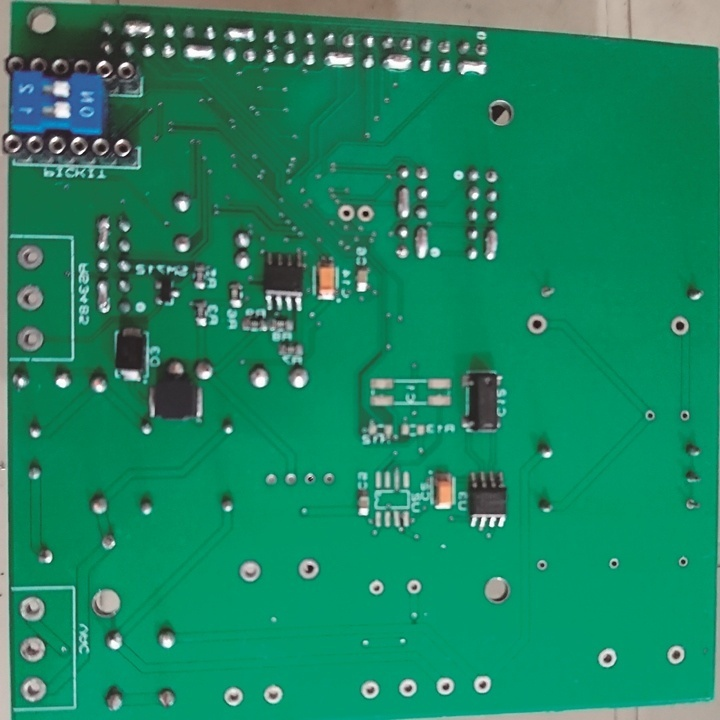F: (18, 674, 51, 707), (18, 634, 49, 666), (16, 323, 47, 354), (16, 244, 47, 275), (15, 284, 47, 314), (18, 597, 48, 626), (295, 557, 321, 584), (236, 558, 263, 584), (596, 646, 621, 672), (396, 675, 420, 700), (665, 642, 688, 668), (263, 681, 285, 708), (527, 311, 549, 338), (435, 673, 458, 698), (222, 685, 246, 708), (358, 678, 381, 701), (667, 315, 690, 338), (353, 201, 376, 224), (334, 202, 356, 223), (473, 672, 492, 696), (537, 281, 558, 302), (367, 576, 387, 598), (158, 40, 176, 62), (682, 496, 701, 516), (341, 29, 358, 50), (263, 469, 280, 489), (483, 166, 500, 186), (435, 37, 453, 55), (405, 577, 422, 596), (640, 406, 659, 423), (473, 39, 490, 58), (413, 163, 430, 182), (393, 242, 410, 261), (398, 33, 414, 52), (241, 46, 257, 65), (536, 556, 551, 574), (301, 469, 316, 487), (607, 555, 622, 571), (321, 472, 336, 488), (285, 471, 299, 487), (678, 554, 690, 571), (679, 408, 692, 423)
P: (94, 214, 112, 254), (412, 223, 430, 261), (456, 57, 487, 78), (324, 49, 356, 69), (381, 51, 410, 73), (121, 19, 153, 38), (484, 226, 499, 266), (181, 43, 216, 60), (395, 184, 411, 220), (96, 276, 110, 315), (224, 26, 257, 42)
